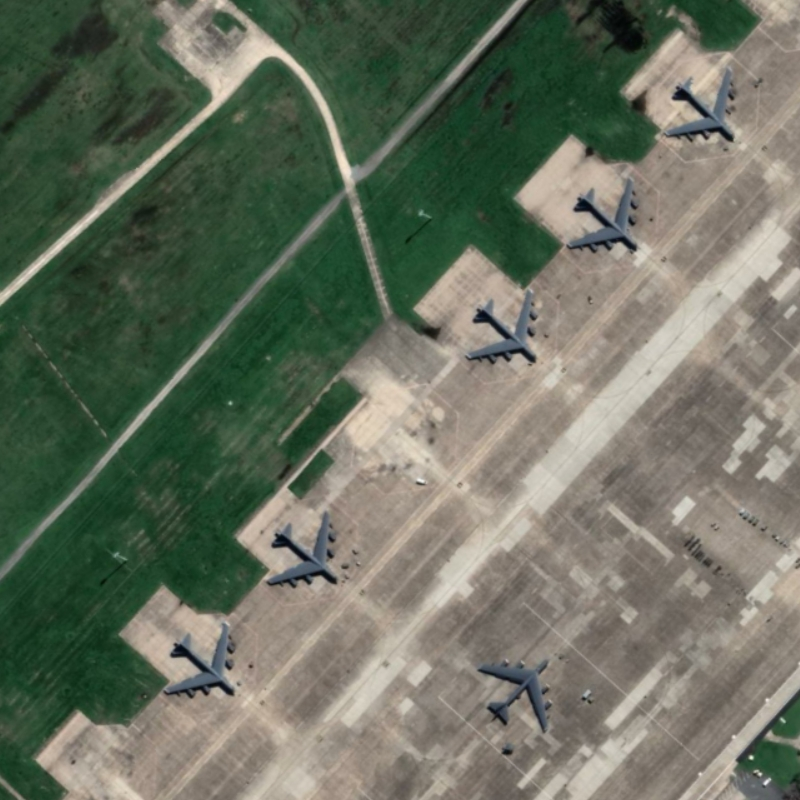A8: (469, 646, 561, 738), (459, 285, 547, 372), (157, 618, 246, 704), (259, 508, 346, 595), (562, 174, 646, 259), (660, 66, 739, 147)
